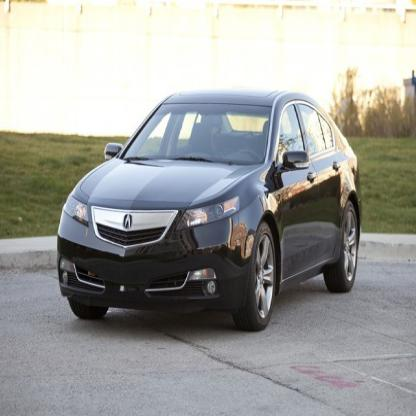Vehicle: (55, 87, 362, 336)
